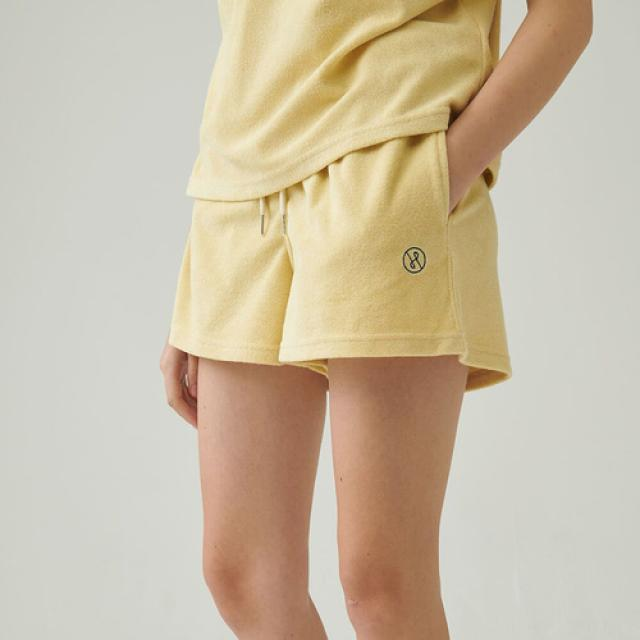Blouse_deep: (162, 108, 519, 395)
